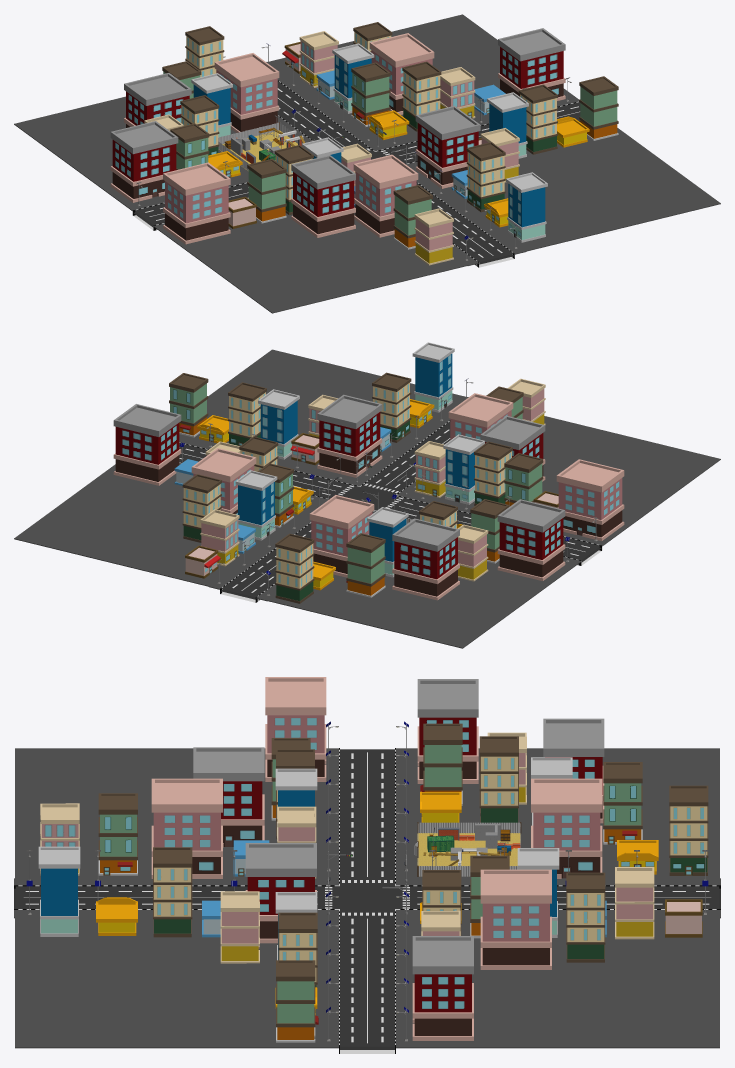
File: Full Chase Tag Map.fbx
3 renders of one model, top to bottom at view 1: azimuth 30°, elevation 25°; view 2: azimuth 150°, elevation 25°; view 3: azimuth 270°, elevation 25°, orthographic. The views are drawn at different scales.
Parts seen in each view (by area): view 1: Map Background, Map Barrier, Ground; view 2: Map Background; view 3: Map Background, Ground, Map Barrier.
Part boxes in pixels (box(x1,y1,x2,y2)): Map Background: box(14, 14, 720, 313); Map Barrier: box(218, 122, 306, 170); Ground: box(220, 130, 297, 171); Map Background: box(14, 342, 720, 648); Map Background: box(14, 677, 720, 1053); Ground: box(417, 833, 520, 866); Map Barrier: box(414, 822, 521, 876).
Bounding box in the file's own units: 16591 × 2107 × 16583.
